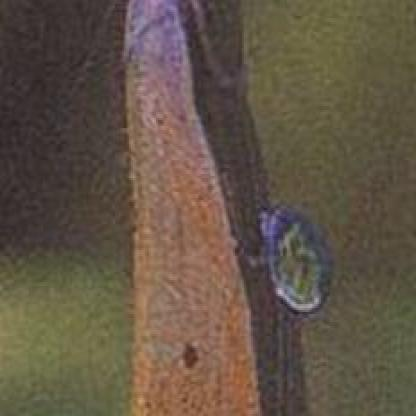stem-borer: (114, 0, 266, 416)
